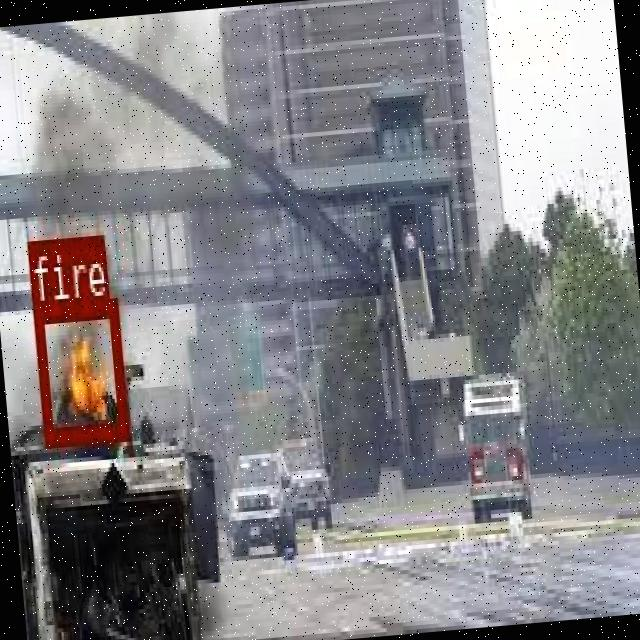fire: (31, 297, 126, 442)
